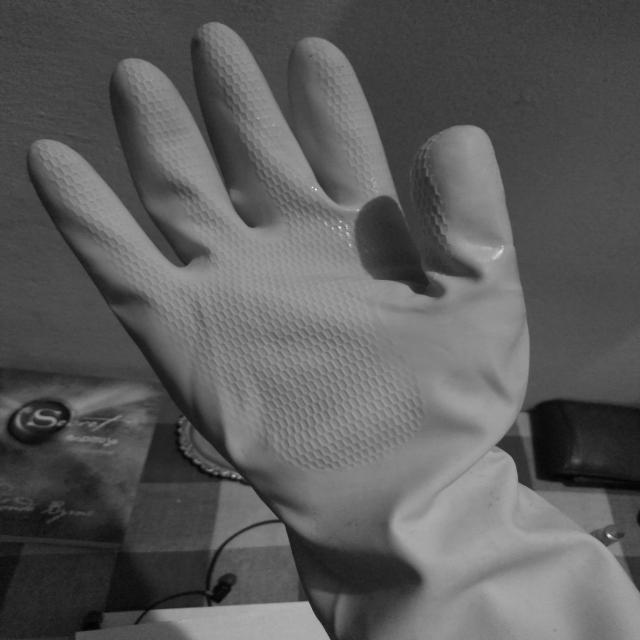Gloves: (35, 22, 640, 640)
